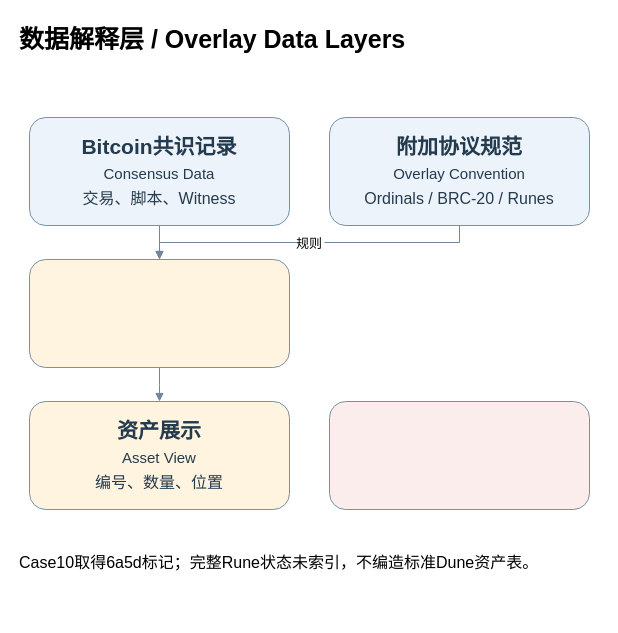
This 618x633 diagram has some shape labels left out. The shapes that lost their labels are listed below. From the top down, each one's centre as x and y in pixels, then its label:
pixel 159 313: 索引器解析状态 Indexer Interpretation 版本与历史覆盖
pixel 459 455: 未验证状态 Unverified State 标记候选≠完整资产验证
